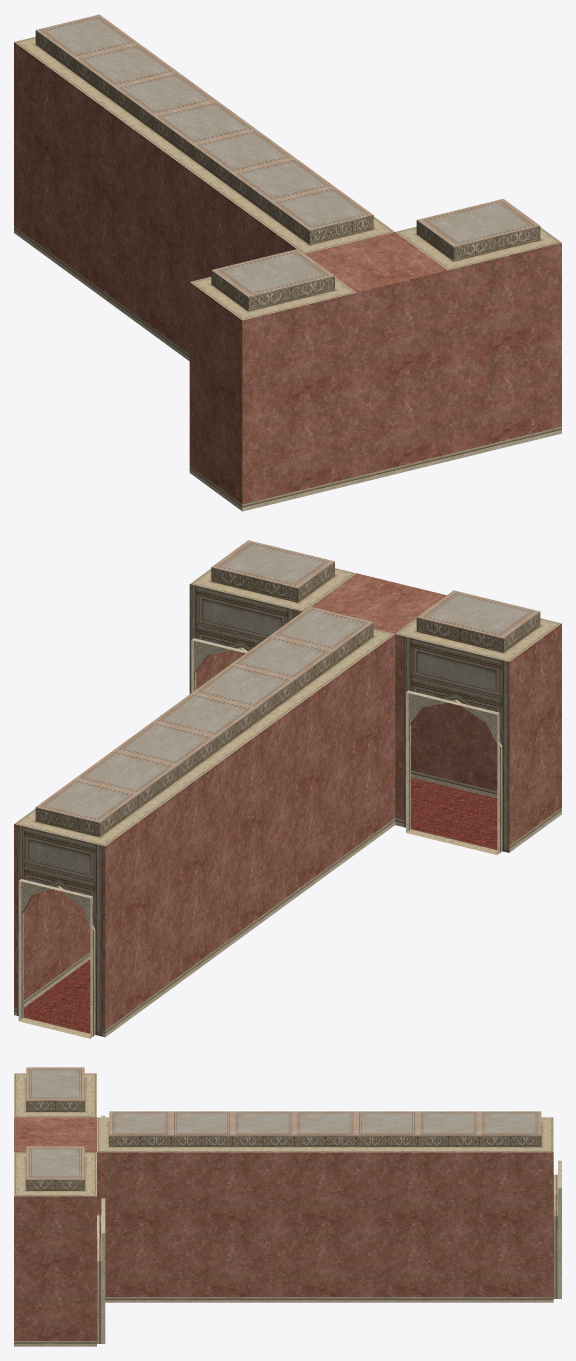
Rendered from ply_nboo_house_sm_s01_fp1_r1_foyer_mesh_r1.fbx.
The picture shows the model from 3 angles, top to bottom: view 1: azimuth 30°, elevation 25°; view 2: azimuth 150°, elevation 25°; view 3: azimuth 270°, elevation 25°; orthographic projection. The views are drawn at different scales.
Parts seen in each view (by area): view 1: mesh_node; view 2: mesh_node; view 3: mesh_node.
Part boxes in pixels (left/top/right/bottom): mesh_node: left=14, top=14, right=561, bottom=511; mesh_node: left=14, top=540, right=561, bottom=1038; mesh_node: left=14, top=1067, right=561, bottom=1346.
Bounding box in the file's own units: 7 × 4.3 × 13.2.
